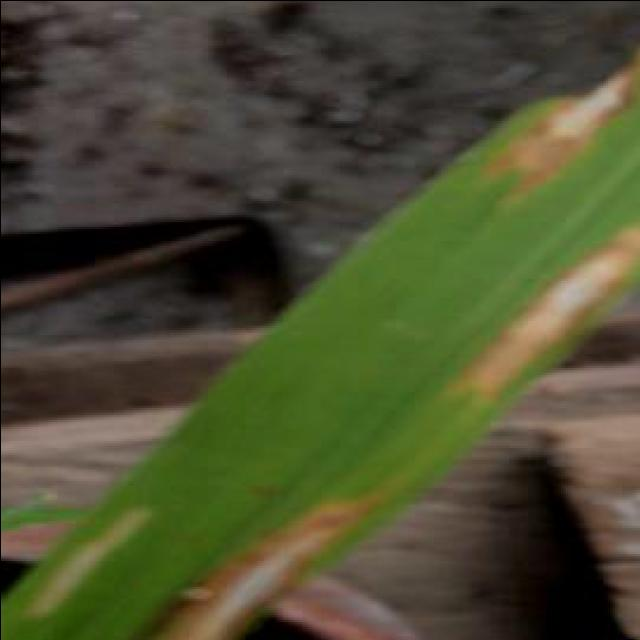Leaf_Blast: (436, 200, 640, 424), (115, 470, 381, 640), (466, 12, 640, 193)
